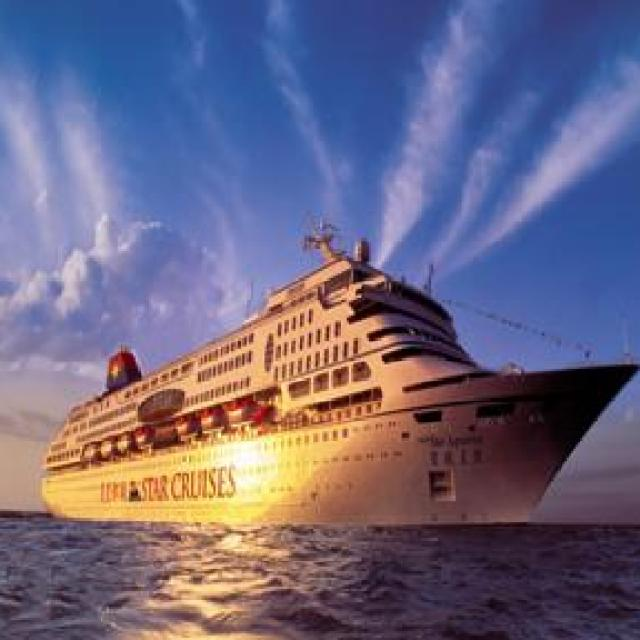passenger ship: (33, 207, 640, 542)
